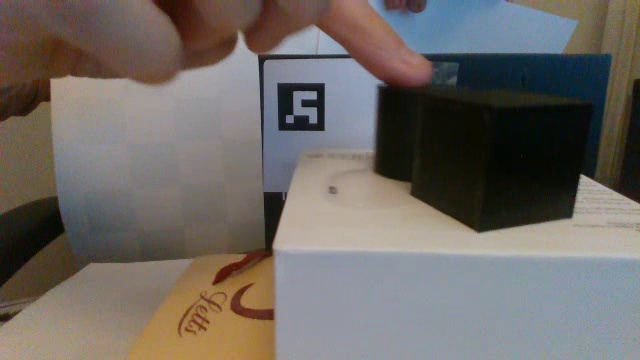cube: (407, 83, 597, 238)
cylindre: (367, 77, 432, 191)
